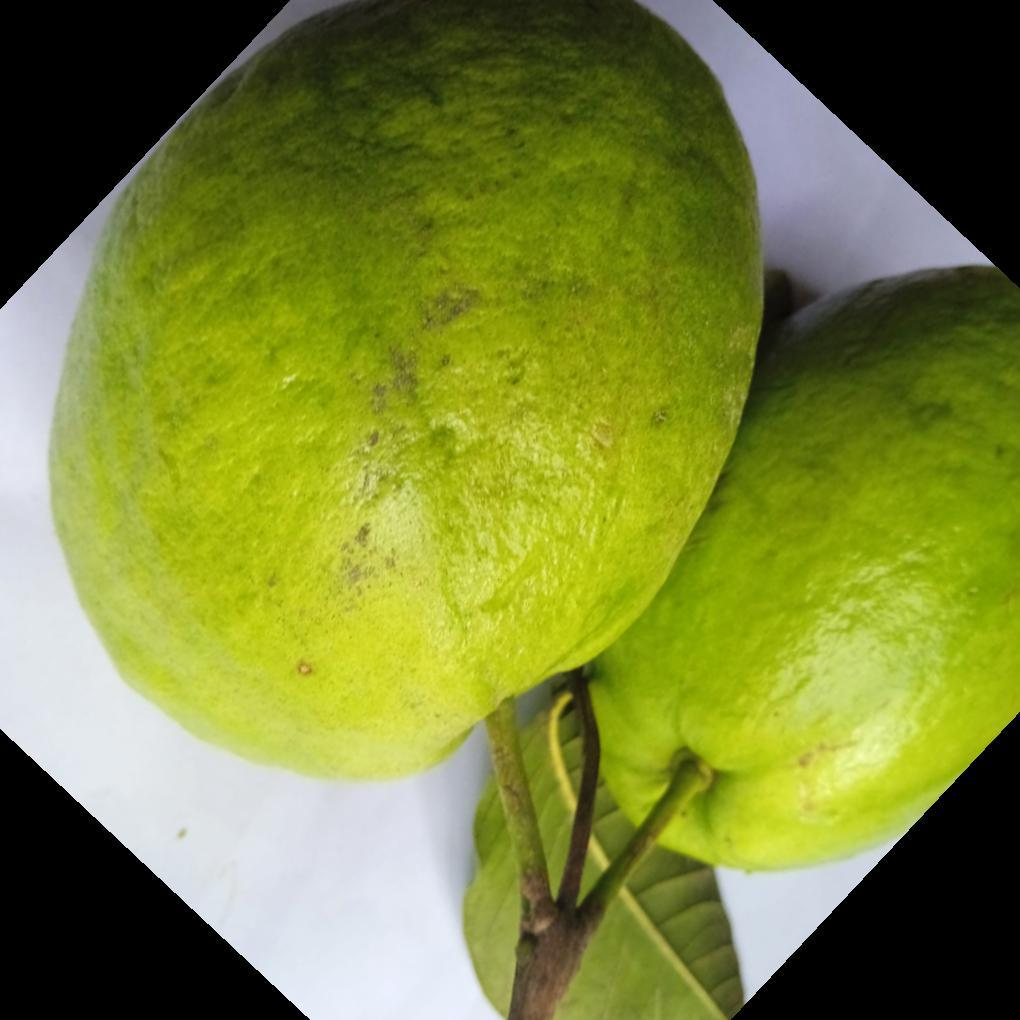FreshGuava: (46, 0, 1020, 1020)
